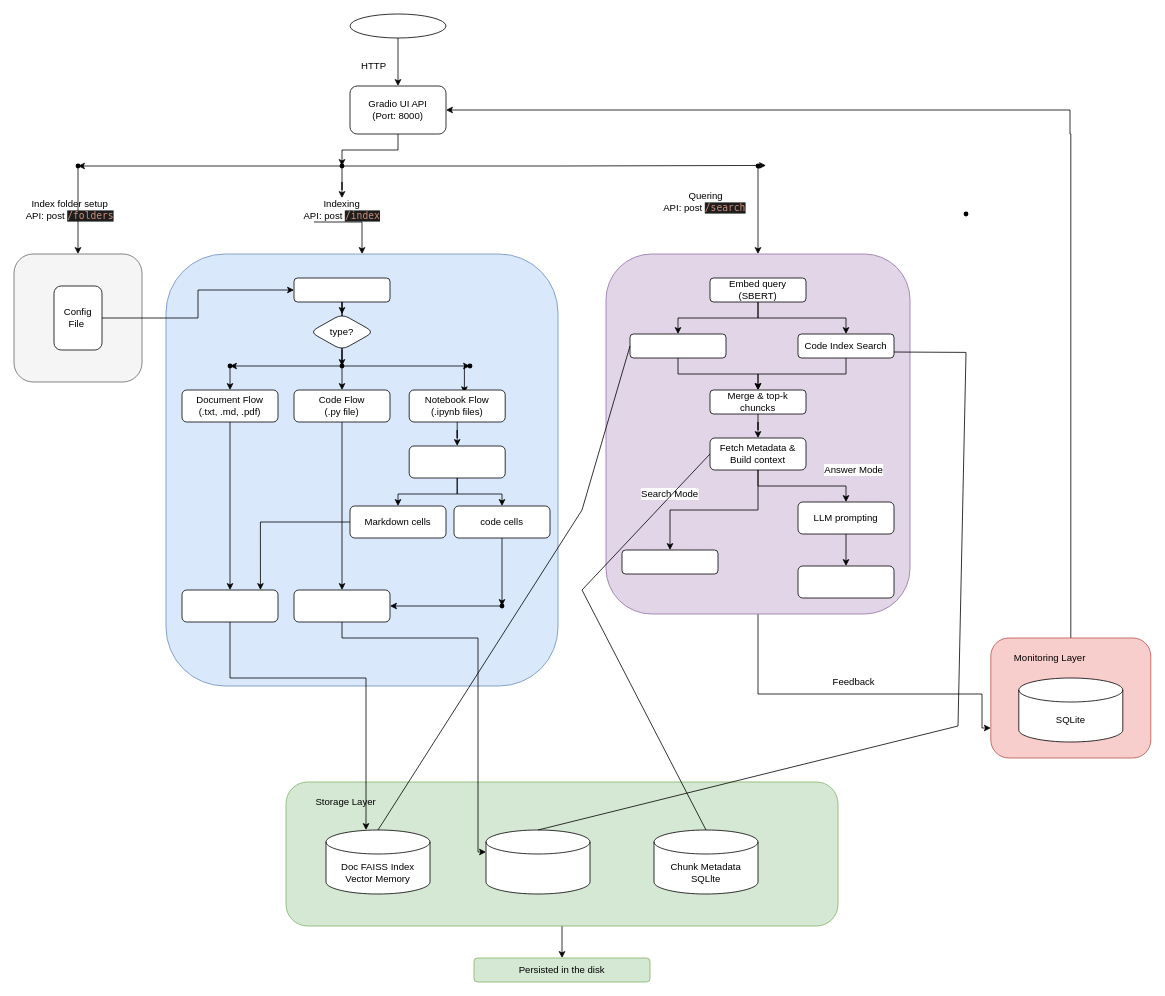
The diagram is 1165 pixels wide and 996 high, and some of its shapes have lost their labels. Each missing label, with the centre of its shape:
"Code Embedder ( jina )" goes at [341,605].
"Code FAISS Index Vector Memory" goes at [537,861].
"Doc Index search" goes at [677,345].
"Document Embedding (SBERT)" goes at [229,605].
"Return answer + file metadata" goes at [845,581].
"Return file metadata" goes at [669,561].
"Scan the folders" goes at [341,289].
"Split cells" goes at [456,461].
"User" goes at [397,25].
